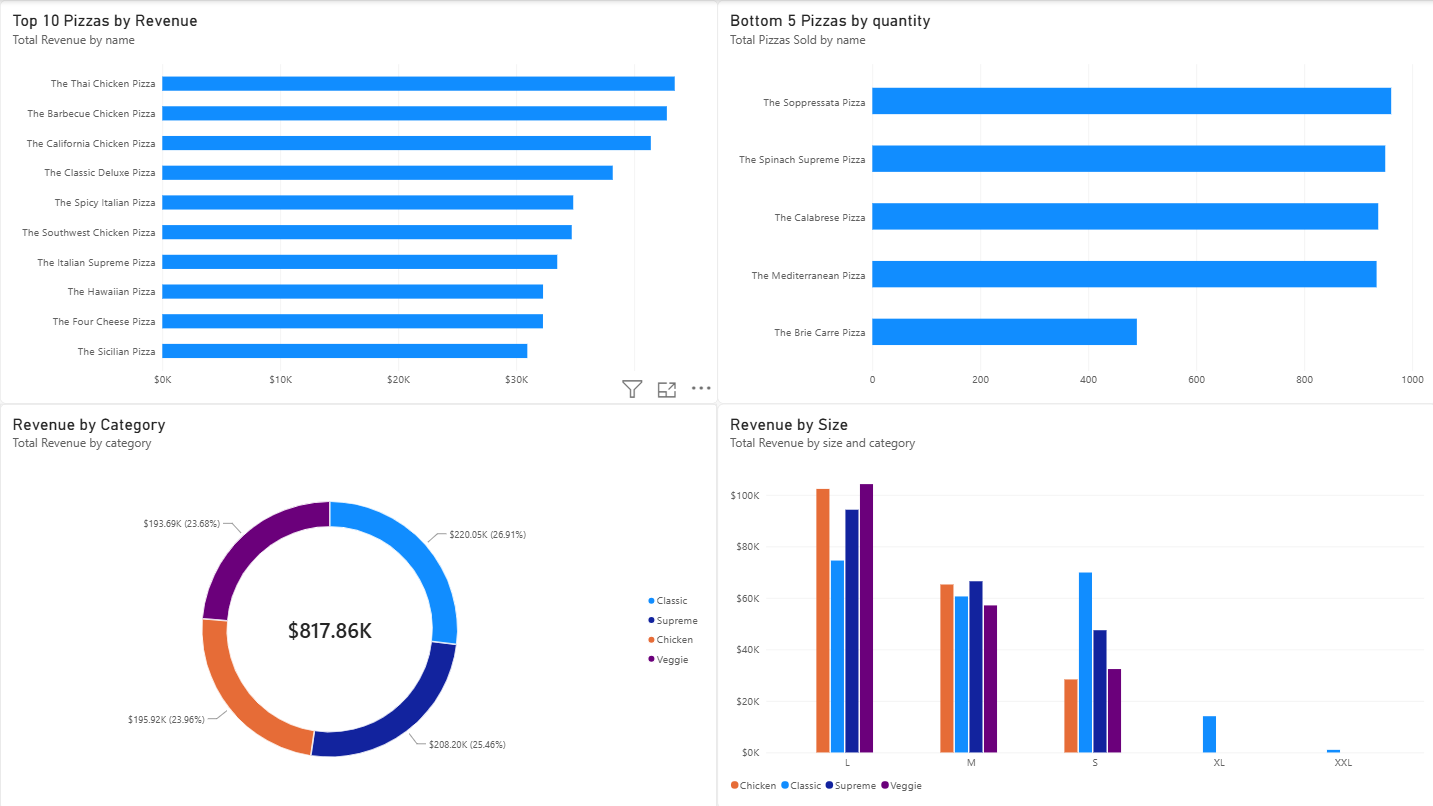

What the dashboard file says about the page in this screenshot:
{"tool":"powerbi","page":{"name":"Product Performance","canvas":[1920,1080],"ordinal":1},"visuals":[{"type":"clusteredBarChart","title":"Top 10 Pizzas by Revenue","fields":{"Category":["pizza_types.name"],"Y":["order_details.Total Revenue"]},"box":[0,0,959.2,539.3],"z":0},{"type":"barChart","title":"Bottom 5 Pizzas by quantity","fields":{"Category":["pizza_types.name"],"Y":["order_details.Total Pizzas Sold"]},"box":[959.2,0,961.2,539.3],"z":1},{"type":"donutChart","title":"Revenue by Category","fields":{"Category":["pizza_types.category"],"Y":["order_details.Total Revenue"]},"box":[0,539.3,959.2,541.3],"z":2},{"type":"clusteredColumnChart","title":"Revenue by Size","fields":{"Category":["pizzas.size"],"Series":["pizza_types.category"],"Y":["order_details.Total Revenue"]},"box":[959,539,961,541],"z":3}]}

Visuals, with their boxes in screenshot pixels (x1, y1, x2, y2), scaled from the page's 1920x1080 canvas onto the 1433x806 screenshot:
"Top 10 Pizzas by Revenue" clusteredBarChart: pyautogui.locateOnScreen(0, 0, 716, 402)
"Bottom 5 Pizzas by quantity" barChart: pyautogui.locateOnScreen(716, 0, 1432, 402)
"Revenue by Category" donutChart: pyautogui.locateOnScreen(0, 402, 716, 805)
"Revenue by Size" clusteredColumnChart: pyautogui.locateOnScreen(716, 402, 1432, 805)
